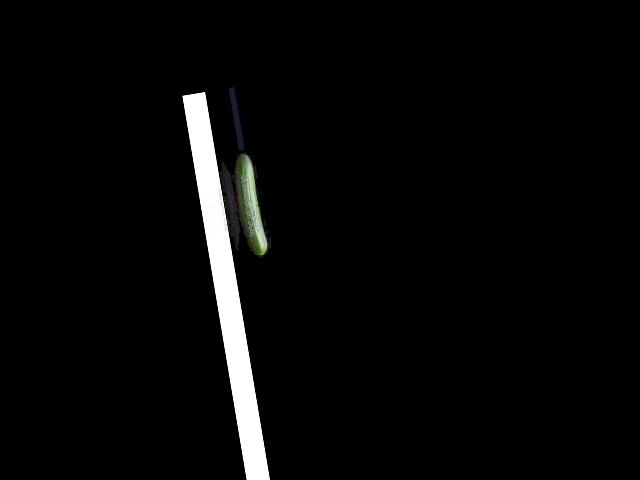cucumber: (236, 153, 268, 257)
